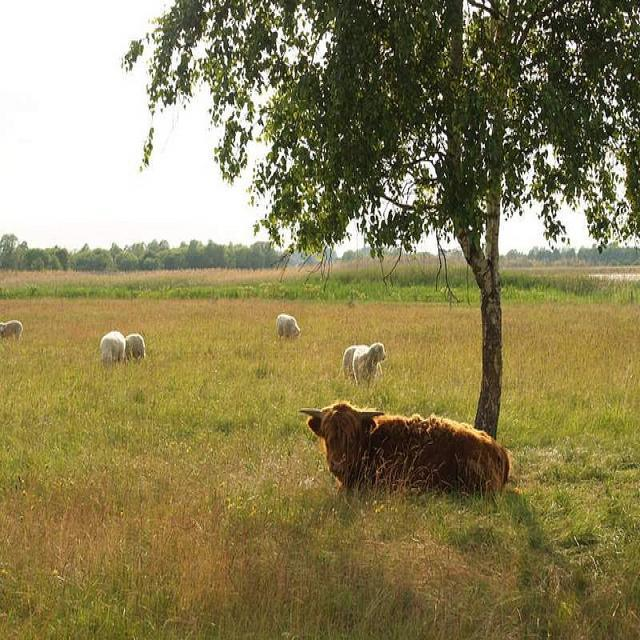cow: (296, 400, 508, 513)
